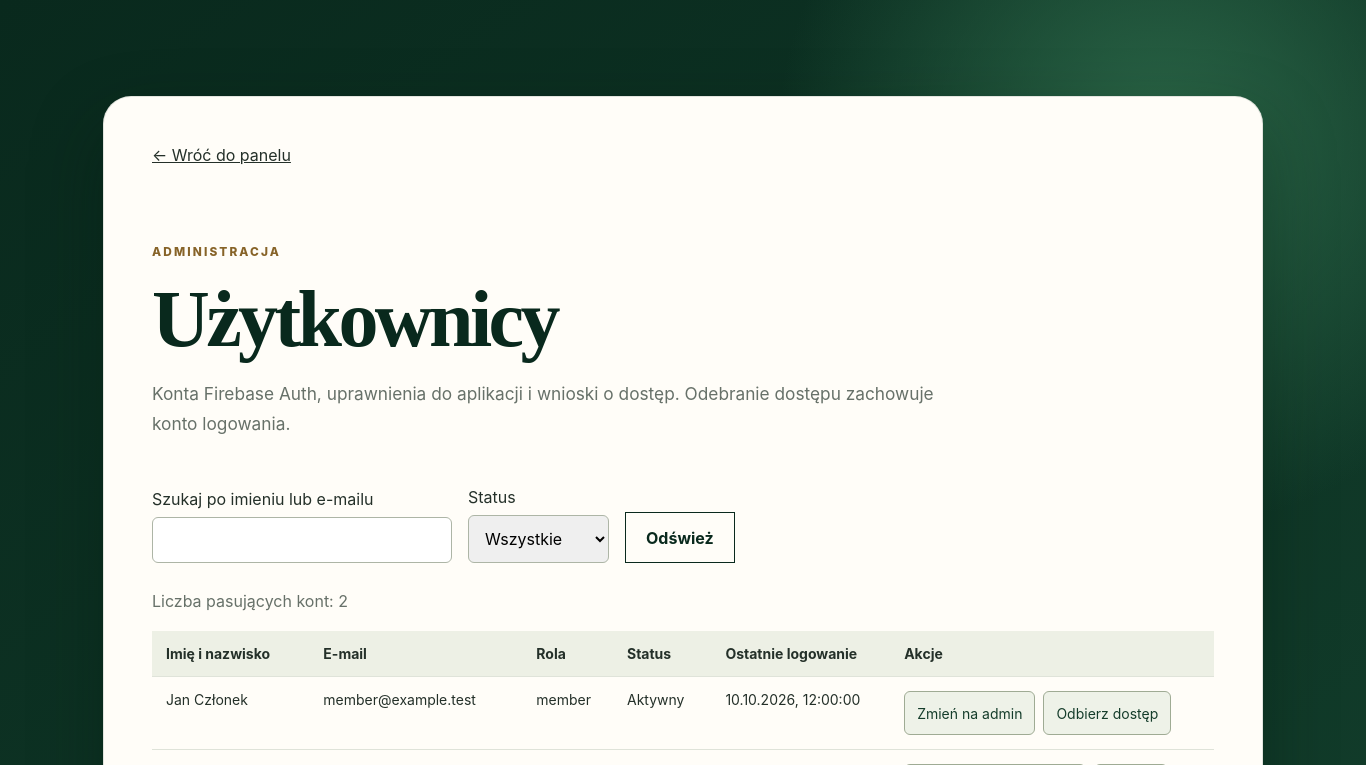
Test: błąd ochrony ostatniego admina pozostaje widoczny
expect the text "Jan Członek" is shown: met, box x1=152 y1=677 x2=309 y2=750
Click the button "Odbierz dostęp": [1107, 713] box x1=1043 y1=691 x2=1171 y2=735
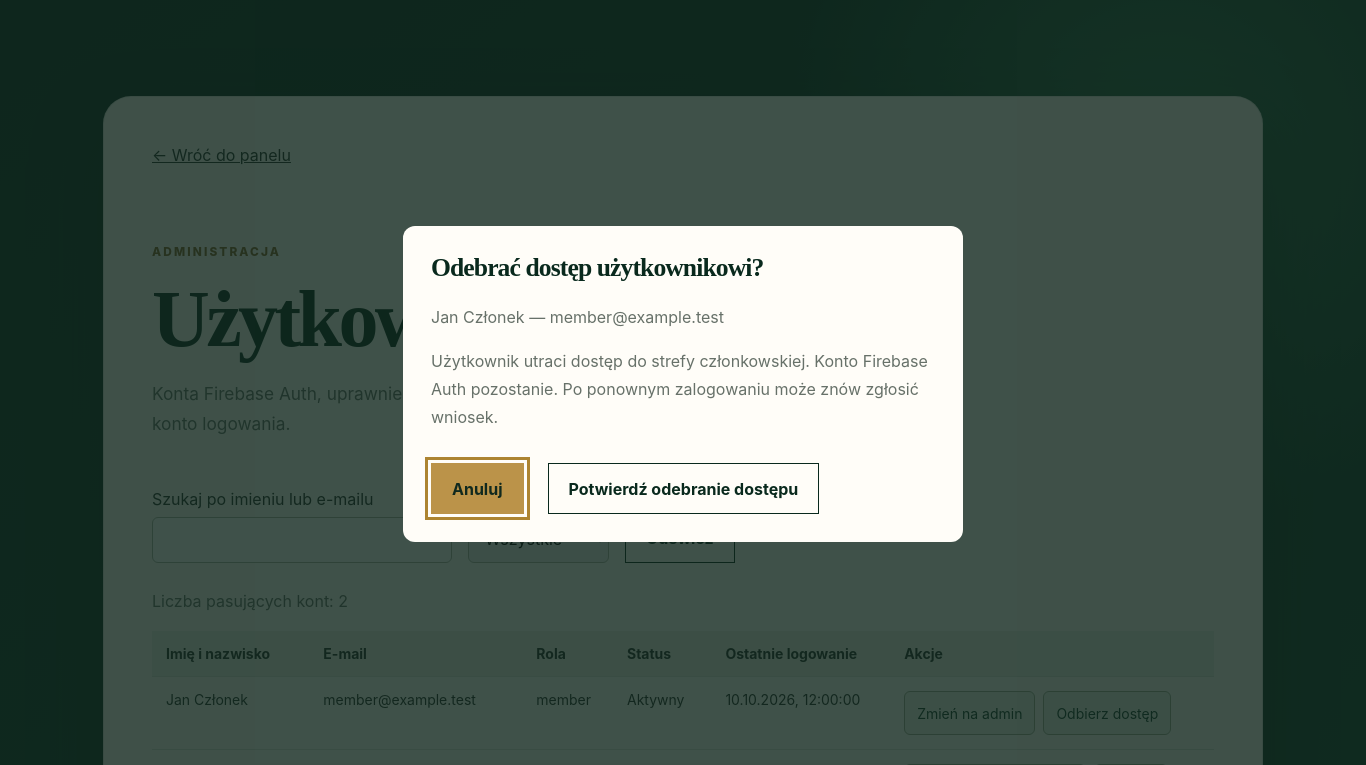
Click the button "Potwierdź odebranie dostępu": [683, 489] box x1=548 y1=463 x2=819 y2=514
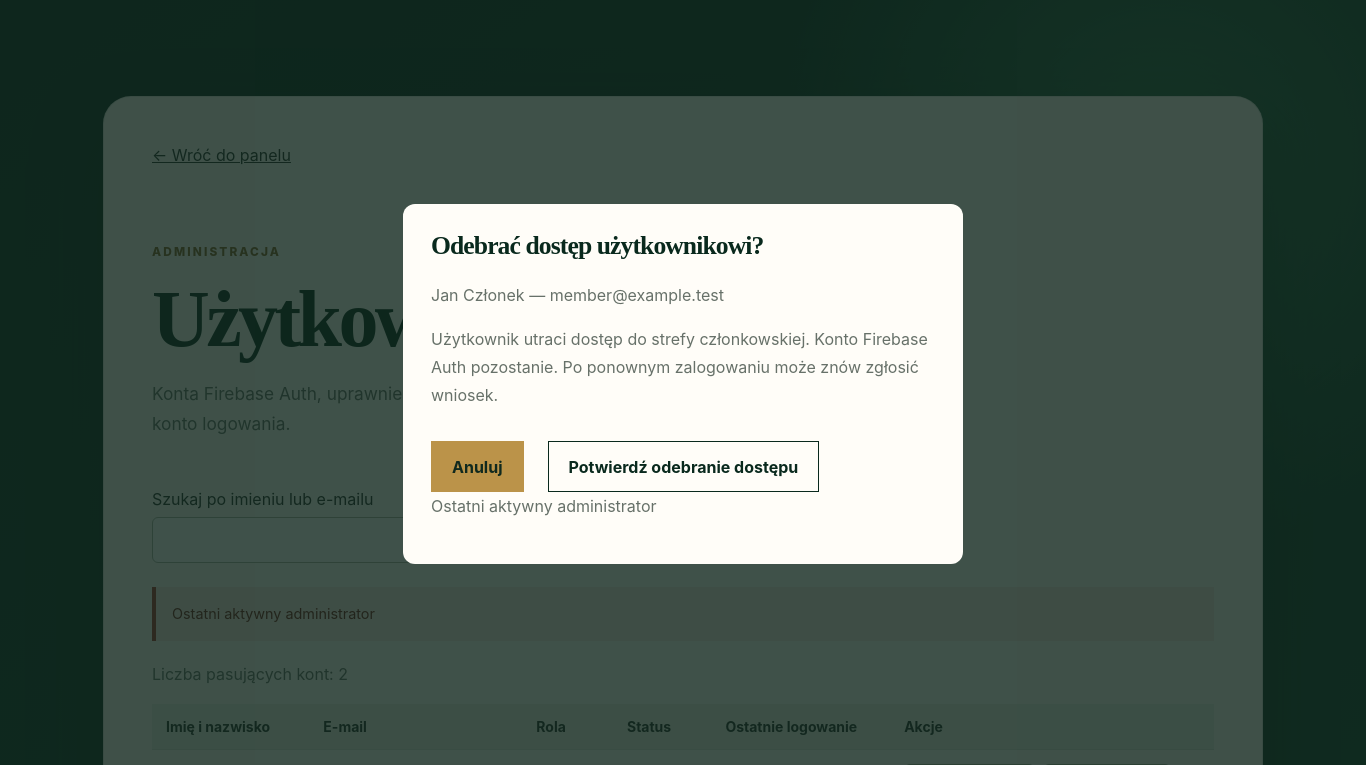
expect the dialog is shown: met, box x1=403 y1=204 x2=963 y2=564
expect the 2nd message "Ostatni aktywny administrator" is shown: met, box x1=152 y1=587 x2=1214 y2=641
